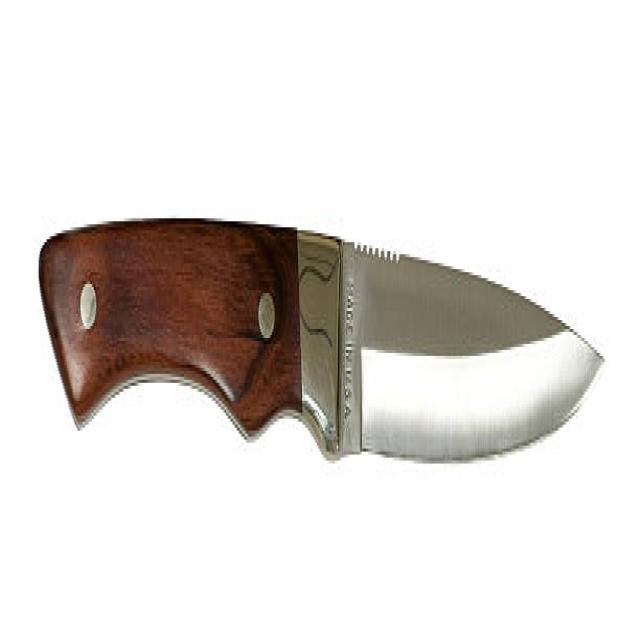knife: (38, 213, 611, 487)
